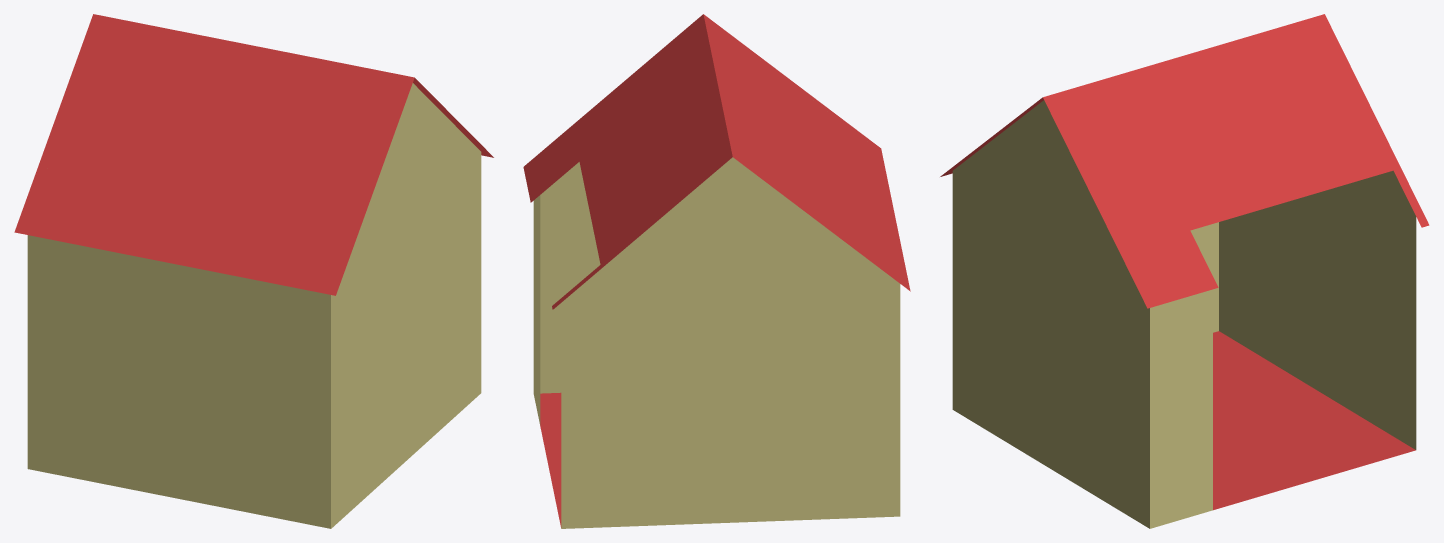
3 renders of one model, left to right at view 1: azimuth 30°, elevation 25°; view 2: azimuth 150°, elevation 25°; view 3: azimuth 270°, elevation 25°, orthographic. The views are drawn at different scales.
Bounding box in the file's own units: 12.92 × 12.8 × 10.77.
